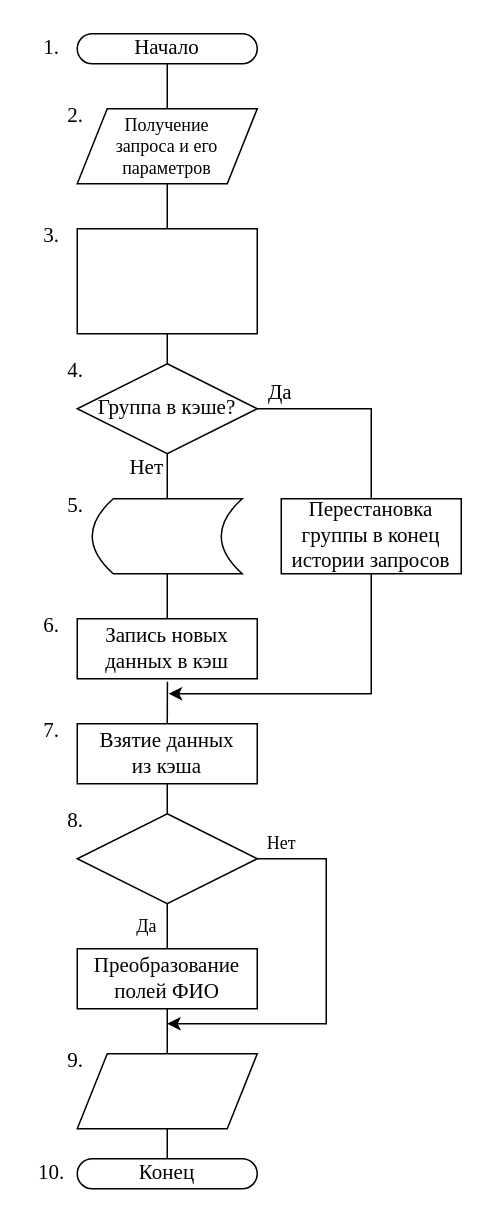
Image size: 488x1221. Some labels were removed from this diagram. Here are the shapes that lost their labels. From the top down, the centre of each, then its label:
At pixel 166 280: "Очистка кэша от устаревших и обновлённых записей".
At pixel 166 535: "Запрос списка студентов группы из БД".
At pixel 166 858: "Формат имени задан?".
At pixel 166 1090: "Вывод кэша в тело ответа".
